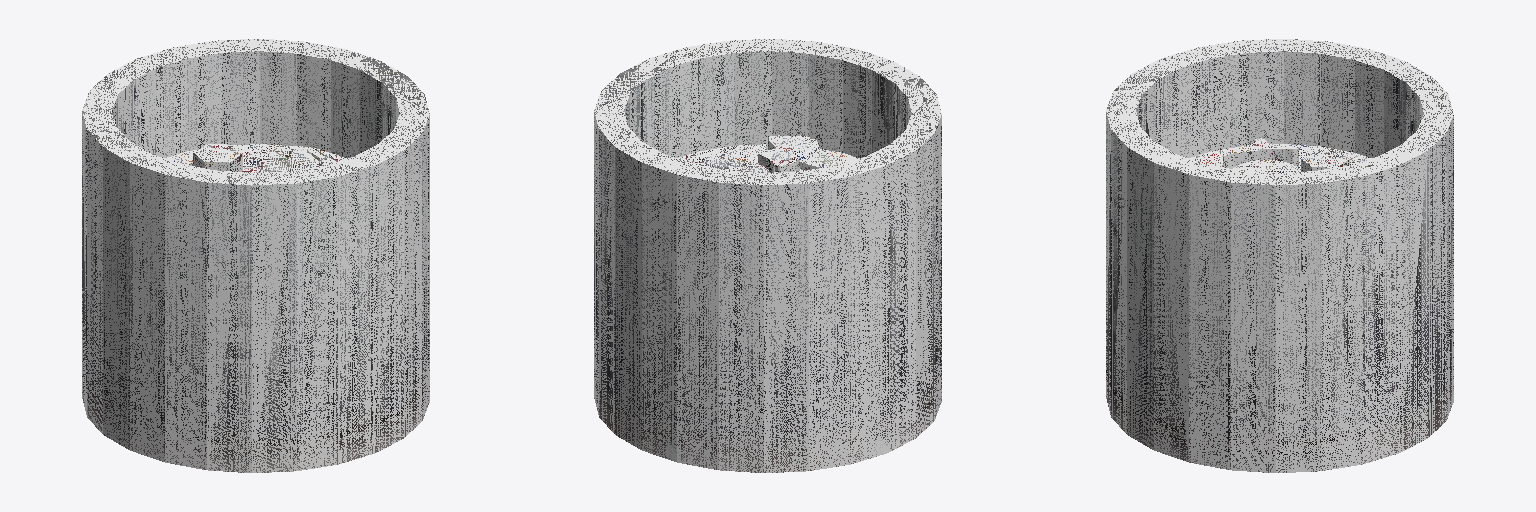
3 renders of one model, left to right at view 1: azimuth 30°, elevation 25°; view 2: azimuth 150°, elevation 25°; view 3: azimuth 270°, elevation 25°, orthographic.
Parts seen in each view (by area): view 1: mesh1_mesh1-geometry; view 2: mesh1_mesh1-geometry; view 3: mesh1_mesh1-geometry.
Part boxes in pixels (x1,y1,x2,y2): mesh1_mesh1-geometry: (82, 39, 429, 472); mesh1_mesh1-geometry: (594, 39, 941, 472); mesh1_mesh1-geometry: (1106, 39, 1453, 472).
Bounding box in the file's own units: 0.594 × 0.5426 × 0.5939.
5 materials, 3 textured.